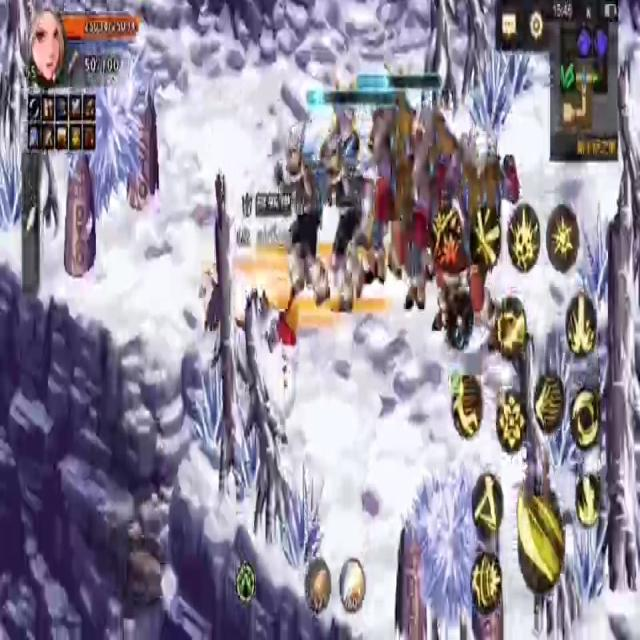player: (262, 287, 300, 434)
